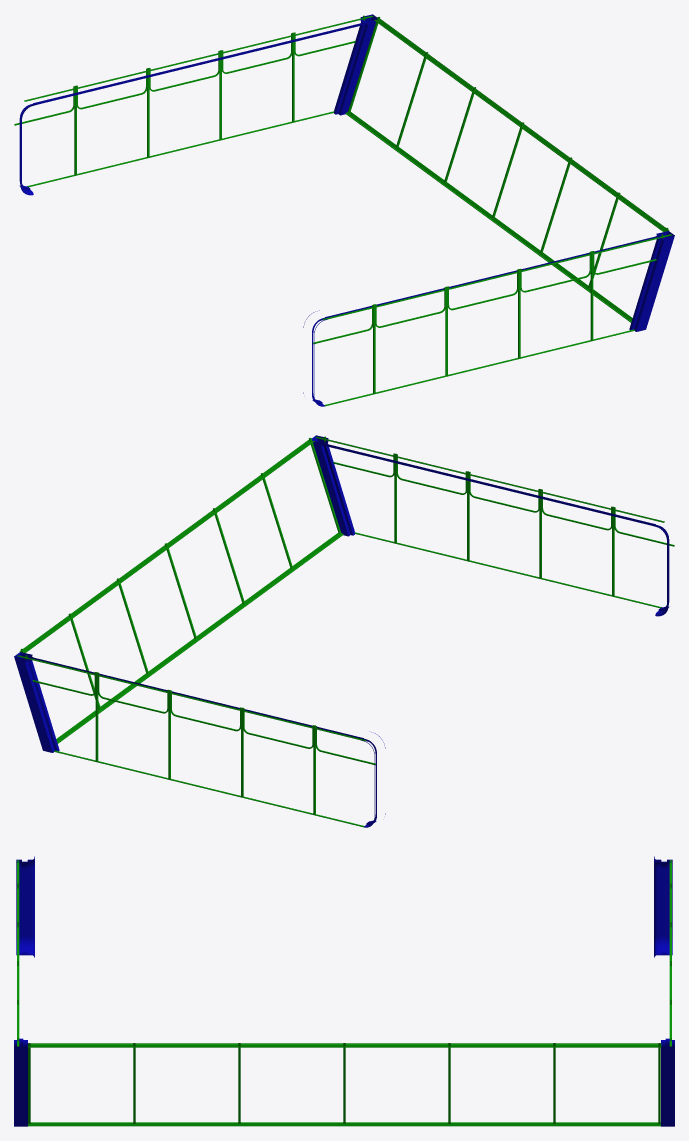
File: WindowFrames_Mesh.fbx
The picture shows the model from 3 angles, top to bottom: view 1: azimuth 30°, elevation 25°; view 2: azimuth 150°, elevation 25°; view 3: azimuth 270°, elevation 25°; orthographic projection. The views are drawn at different scales.
Parts seen in each view (by area): view 1: WindowFrames_Mesh; view 2: WindowFrames_Mesh; view 3: WindowFrames_Mesh.
Part boxes in pixels (x1=…): WindowFrames_Mesh: x1=14, y1=14, x2=674, y2=406; WindowFrames_Mesh: x1=14, y1=435, x2=674, y2=827; WindowFrames_Mesh: x1=14, y1=856, x2=674, y2=1126.
Bounding box in the file's own units: 1434 × 344 × 2071.
